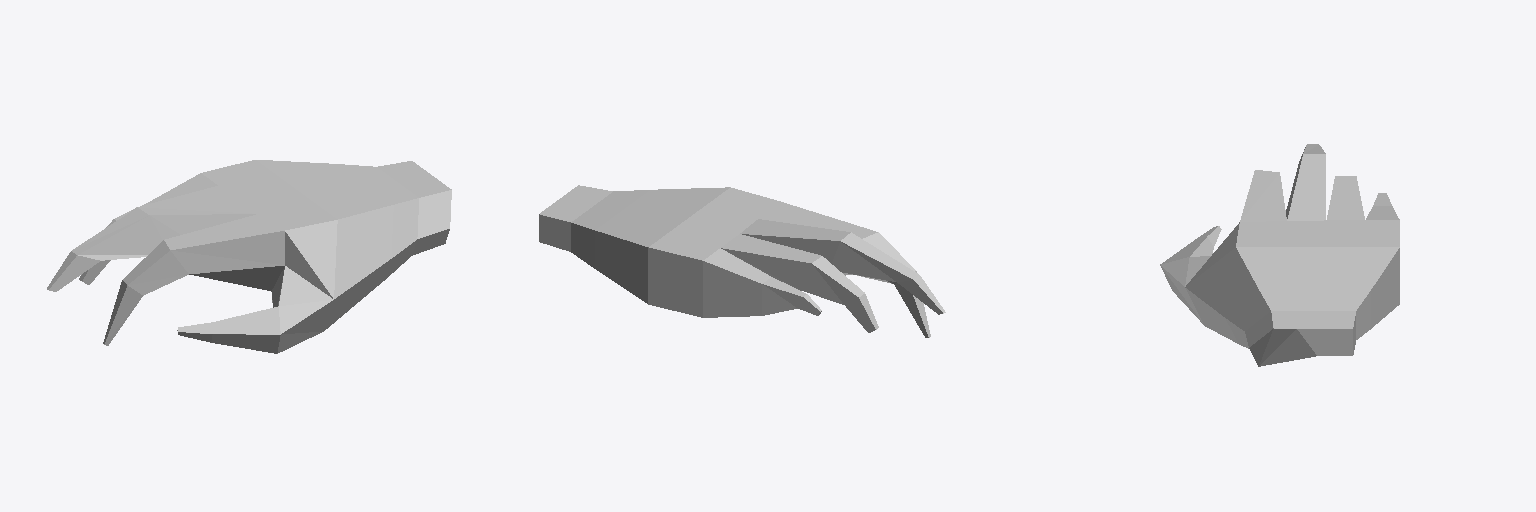
File: hand.obj
The picture shows the model from 3 angles: view 1: azimuth 30°, elevation 25°; view 2: azimuth 150°, elevation 25°; view 3: azimuth 270°, elevation 25°; orthographic projection.
Parts seen in each view (by area): view 1: Cube_Cube.001; view 2: Cube_Cube.001; view 3: Cube_Cube.001.
Boxes of the visible parts, <box> form: Cube_Cube.001: <box>47,160,451,353</box>; Cube_Cube.001: <box>539,185,945,337</box>; Cube_Cube.001: <box>1160,144,1399,366</box>.
Bounding box in the file's own units: 14.11 × 3.87 × 7.61.